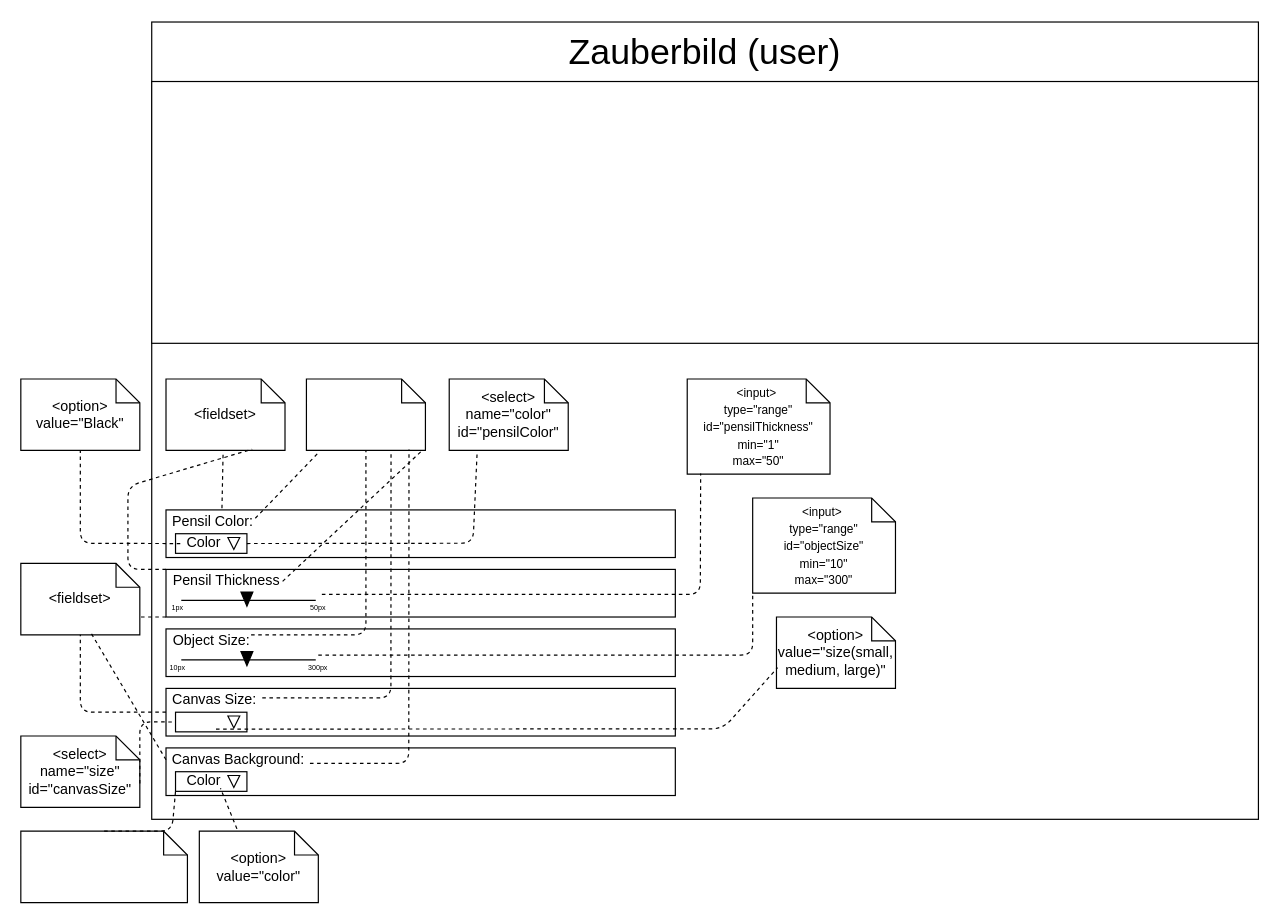
This 1279x923 diagram has some shape labels left out. The shapes that lost their labels are listed below. From the top down, each one's box as (x1, y1, x2, y2) in pixels, then its label:
(305, 378, 425, 450): <legend>
(174, 711, 247, 732): Size
(20, 830, 187, 903): <select> name="backgroundcolor" id="backgroundColor"
